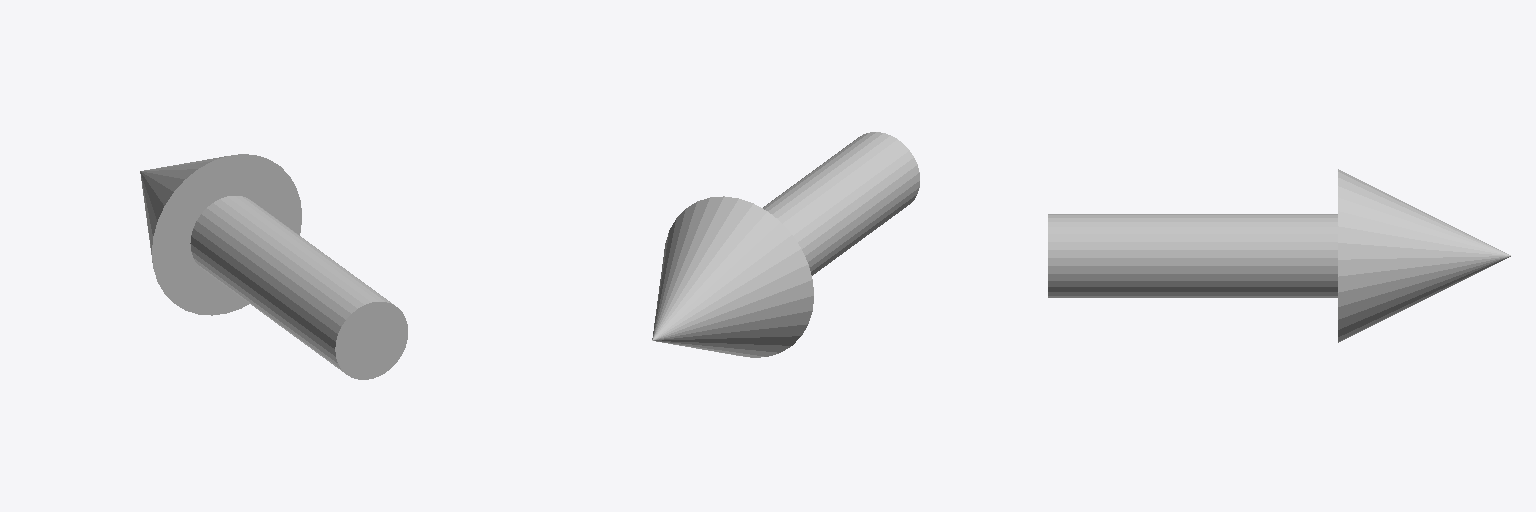
The model's file is arrow.obj.
3 views of the same model, side by side, from view 1: azimuth 30°, elevation 25°; view 2: azimuth 150°, elevation 25°; view 3: azimuth 270°, elevation 25° (orthographic).
Size of the model in its own units: 0.704 by 0.704 by 1.88.